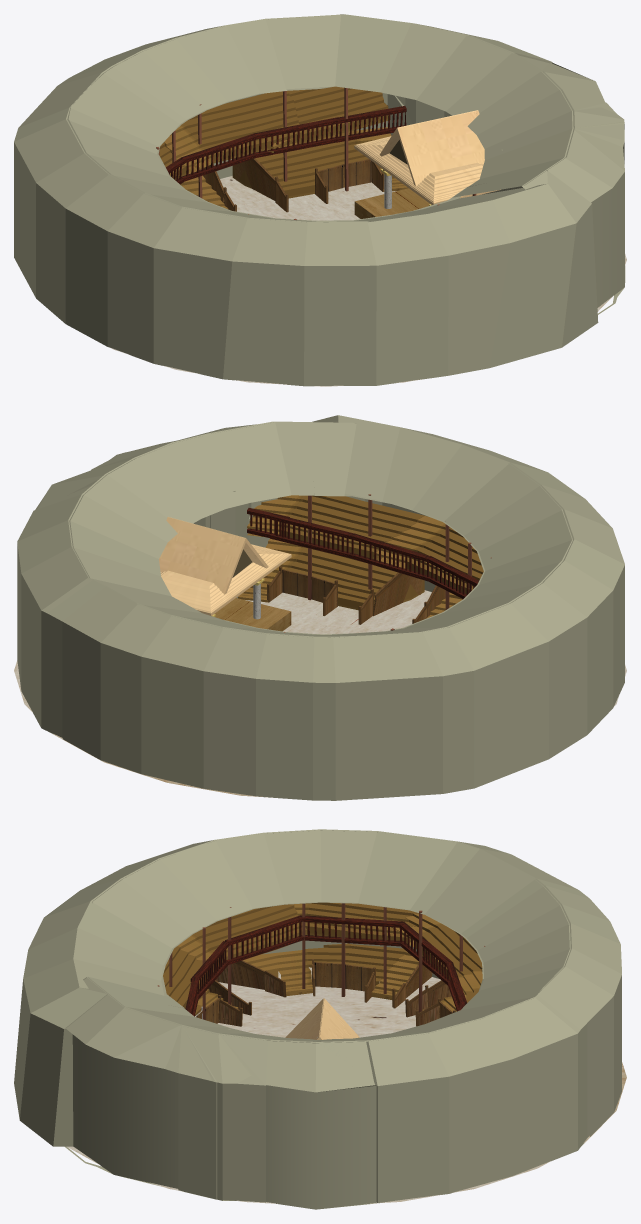
Rendered from globe_Texture_4.fbx.
3 views of the same model, one above another, from view 1: azimuth 30°, elevation 25°; view 2: azimuth 150°, elevation 25°; view 3: azimuth 270°, elevation 25° (orthographic).
Visible parts, largest first — view 1: pCube250, pCube258, pCube257, pCube256, pCube254, pCube34, pDisc1, pCube29, polySurface47, pCube1, polySurface32, polySurface7; view 2: pCube250, pCube258, pCube256, pCube257, pCube254, pDisc1, pCube33, pCube29, pCube1, pCube68, polySurface50, pCube50; view 3: pCube250, pCube258, pCube257, pCube256, pDisc1, pCube254, polySurface60, pCube33, pCube34, pCube154, pCube155, pCube152.
Boxes of the visible parts, <box> form: pCube250: <box>14,14,625,386</box>; pCube258: <box>43,14,624,302</box>; pCube257: <box>43,14,625,307</box>; pCube256: <box>159,86,408,209</box>; pCube254: <box>166,106,406,184</box>; pCube34: <box>396,110,484,186</box>; pDisc1: <box>109,176,626,386</box>; pCube29: <box>354,136,500,204</box>; polySurface47: <box>213,93,444,178</box>; pCube1: <box>354,188,429,218</box>; polySurface32: <box>233,157,275,200</box>; polySurface7: <box>343,159,371,187</box>; pCube250: <box>17,415,624,800</box>; pCube258: <box>42,415,622,785</box>; pCube256: <box>238,495,483,618</box>; pCube257: <box>21,418,623,786</box>; pCube254: <box>247,508,478,598</box>; pDisc1: <box>14,590,626,797</box>; pCube33: <box>159,517,245,594</box>; pCube29: <box>160,544,291,615</box>; pCube1: <box>214,598,291,631</box>; pCube68: <box>193,491,435,598</box>; polySurface50: <box>373,572,423,616</box>; pCube50: <box>282,569,307,598</box>; pCube250: <box>14,829,621,1209</box>; pCube258: <box>25,829,619,1201</box>; pCube257: <box>72,831,593,1201</box>; pCube256: <box>163,902,482,1019</box>; pDisc1: <box>67,967,626,1203</box>; pCube254: <box>185,915,466,1016</box>; polySurface60: <box>213,960,265,989</box>; pCube33: <box>317,998,359,1039</box>; pCube34: <box>285,998,323,1039</box>; pCube154: <box>313,962,341,987</box>; pCube155: <box>345,964,372,991</box>; pCube152: <box>218,995,242,1026</box>.
Size of the model in its own units: 388 by 134 by 385.
